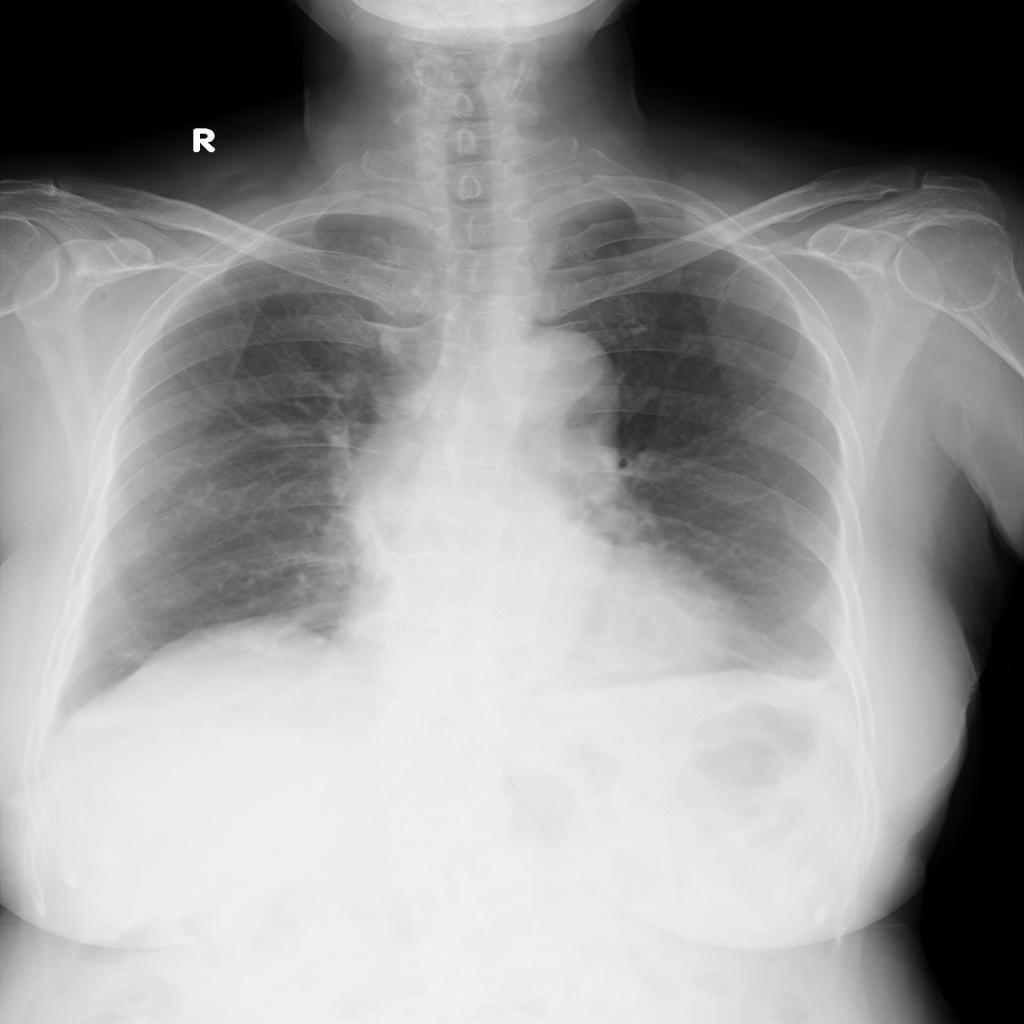Nodule: (377, 327, 404, 358)
